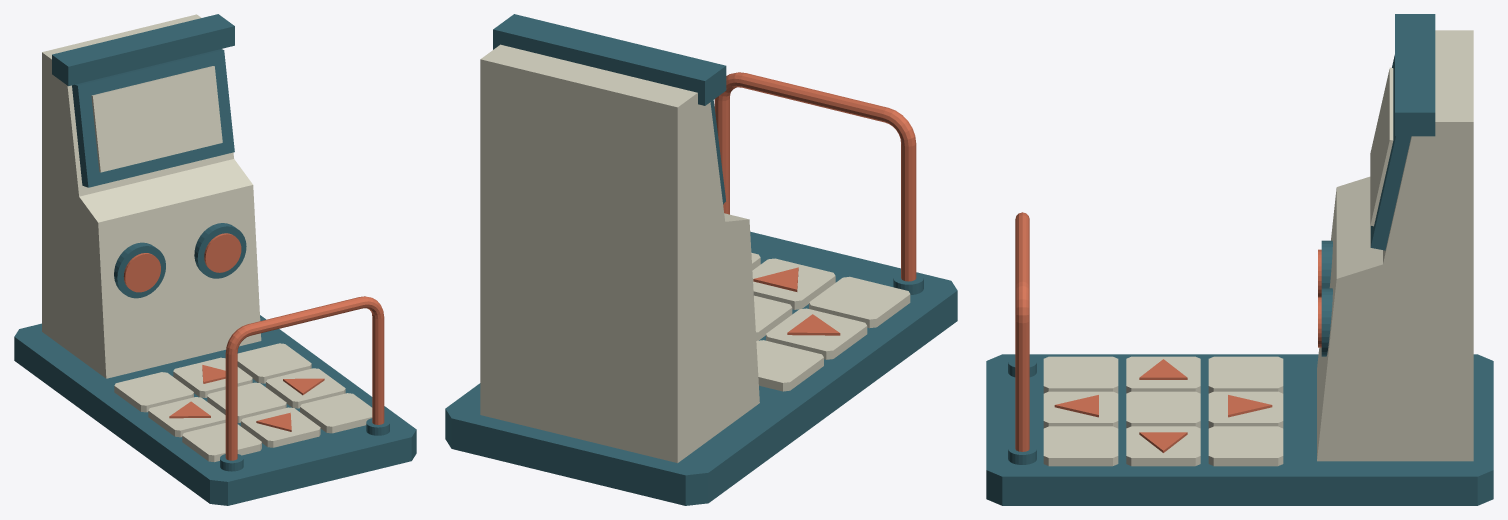
3 renders of one model, left to right at view 1: azimuth 30°, elevation 25°; view 2: azimuth 150°, elevation 25°; view 3: azimuth 270°, elevation 25°, orthographic. The views are drawn at different scales.
Parts seen in each view (by area): view 1: WholeSculptedStandingScreenHousing, WholeContinuousFootPlatformAndCabinetChassis, WholeBlankRecessedDisplay, WholeInclinedDisplayBezel, WholeBlankTopHeader, WholeContinuousRearReturnGripBar, WholeFootControlTile_3, WholeFootControlTile_7, WholeFootControlTile_9, WholeFootControlTile_2, WholeFootControlTile_1, WholeFootControlTile_4 (+7 smaller); view 2: WholeSculptedStandingScreenHousing, WholeContinuousFootPlatformAndCabinetChassis, WholeBlankTopHeader, WholeContinuousRearReturnGripBar, WholeFootControlTile_1, WholeFootControlTile_4, WholeFootControlTile_7, WholeFootControlTile_2, WholeFootControlTile_5, LeftWholeRaisedFootArrow, BackWholeRaisedFootArrow; view 3: WholeSculptedStandingScreenHousing, WholeContinuousFootPlatformAndCabinetChassis, WholeBlankTopHeader, WholeContinuousRearReturnGripBar, WholeFootControlTile_3, WholeFootControlTile_9, WholeFootControlTile_1, WholeFootControlTile_7, WholeFootControlTile_5, WholeFootControlTile_6, WholeFootControlTile_2, WholeFootControlTile_8 (+8 smaller).
Boxes of the visible parts, <box> form: WholeSculptedStandingScreenHousing: <box>42,14,261,378</box>; WholeContinuousFootPlatformAndCabinetChassis: <box>14,315,416,505</box>; WholeBlankRecessedDisplay: <box>91,66,222,172</box>; WholeInclinedDisplayBezel: <box>72,49,234,187</box>; WholeBlankTopHeader: <box>52,14,234,86</box>; WholeContinuousRearReturnGripBar: <box>225,296,384,460</box>; WholeFootControlTile_3: <box>300,393,372,433</box>; WholeFootControlTile_7: <box>114,372,193,412</box>; WholeFootControlTile_9: <box>237,343,311,383</box>; WholeFootControlTile_2: <box>241,407,320,447</box>; WholeFootControlTile_1: <box>182,423,261,462</box>; WholeFootControlTile_4: <box>148,397,225,437</box>; WholeSculptedStandingScreenHousing: <box>480,44,759,462</box>; WholeContinuousFootPlatformAndCabinetChassis: <box>445,231,957,505</box>; WholeBlankTopHeader: <box>493,14,726,105</box>; WholeContinuousRearReturnGripBar: <box>714,72,916,281</box>; WholeFootControlTile_1: <box>809,276,910,328</box>; WholeFootControlTile_4: <box>766,308,867,359</box>; WholeFootControlTile_7: <box>756,340,823,391</box>; WholeFootControlTile_2: <box>752,258,835,309</box>; WholeFootControlTile_5: <box>754,295,792,340</box>; LeftWholeRaisedFootArrow: <box>787,314,840,335</box>; BackWholeRaisedFootArrow: <box>753,267,798,291</box>; WholeSculptedStandingScreenHousing: <box>1317,30,1473,461</box>; WholeContinuousFootPlatformAndCabinetChassis: <box>986,354,1493,505</box>; WholeBlankTopHeader: <box>1395,14,1435,136</box>; WholeContinuousRearReturnGripBar: <box>1015,212,1029,451</box>; WholeFootControlTile_3: <box>1043,426,1118,466</box>; WholeFootControlTile_9: <box>1208,426,1283,466</box>; WholeFootControlTile_1: <box>1043,356,1118,393</box>; WholeFootControlTile_7: <box>1208,356,1283,393</box>; WholeFootControlTile_5: <box>1126,391,1200,428</box>; WholeFootControlTile_6: <box>1126,426,1200,466</box>; WholeFootControlTile_2: <box>1043,391,1118,428</box>; WholeFootControlTile_8: <box>1208,391,1283,428</box>.
Size of the model in its own units: 1.44 by 2.09 by 2.52.
